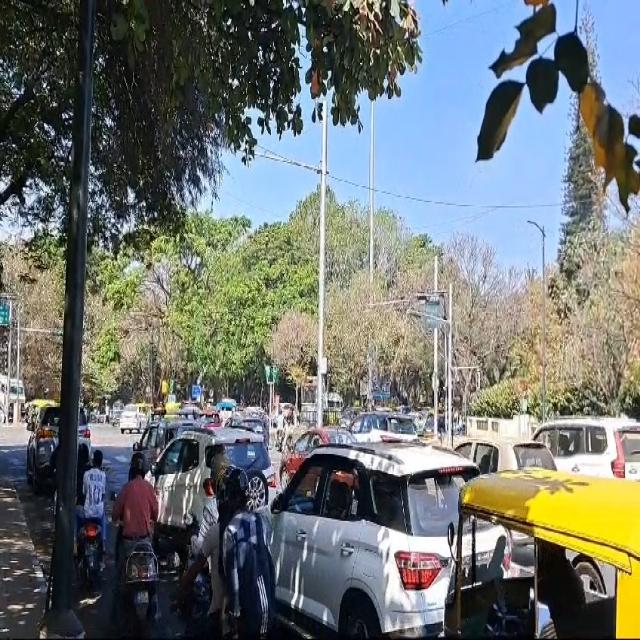cars: (250, 449, 485, 633), (143, 428, 279, 554)
